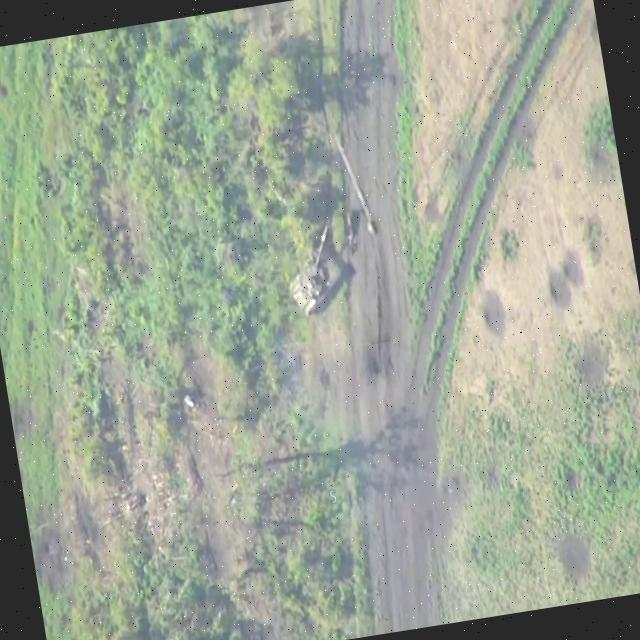Destroyed: (281, 222, 352, 317)
